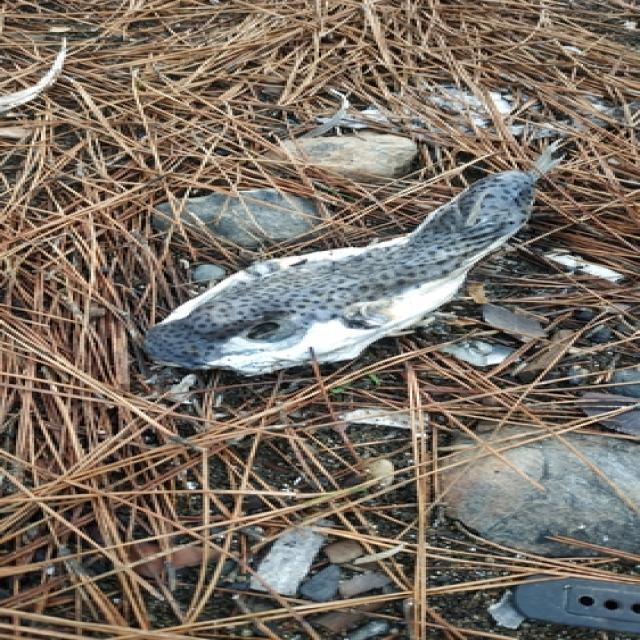Balik: (146, 145, 562, 375)
